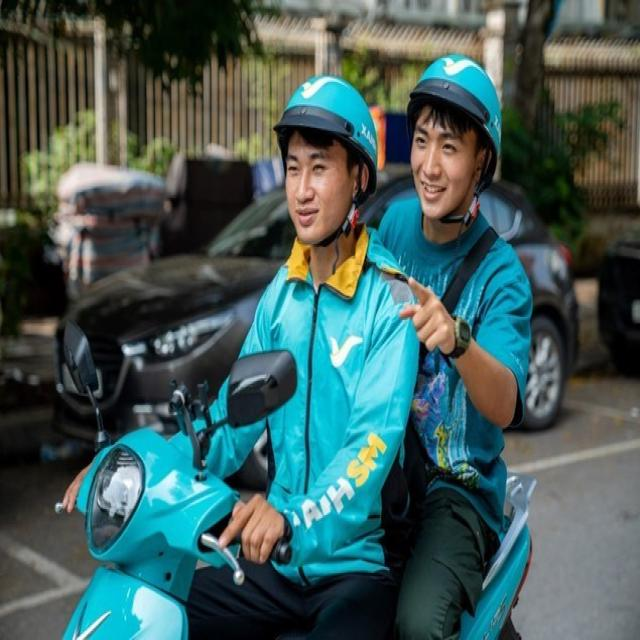1-2-helmet: (407, 54, 502, 184), (272, 75, 378, 177)
